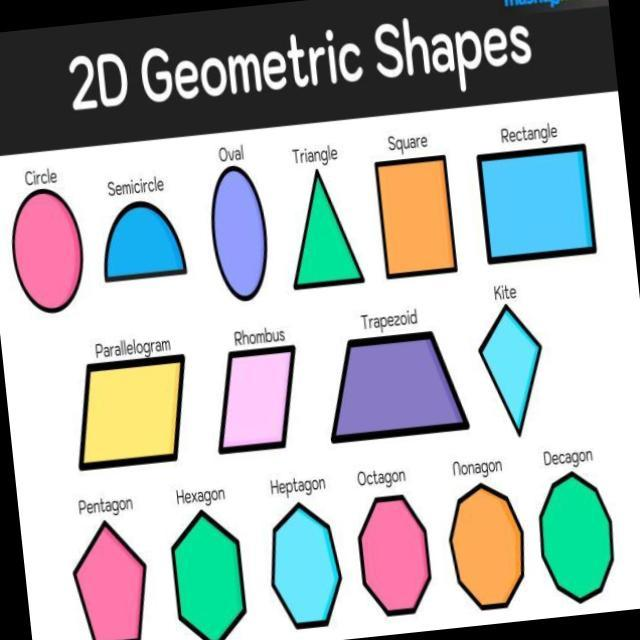circle: (2, 173, 101, 319), (199, 157, 283, 310)
square: (369, 142, 476, 289)
triangle: (283, 154, 371, 294)
